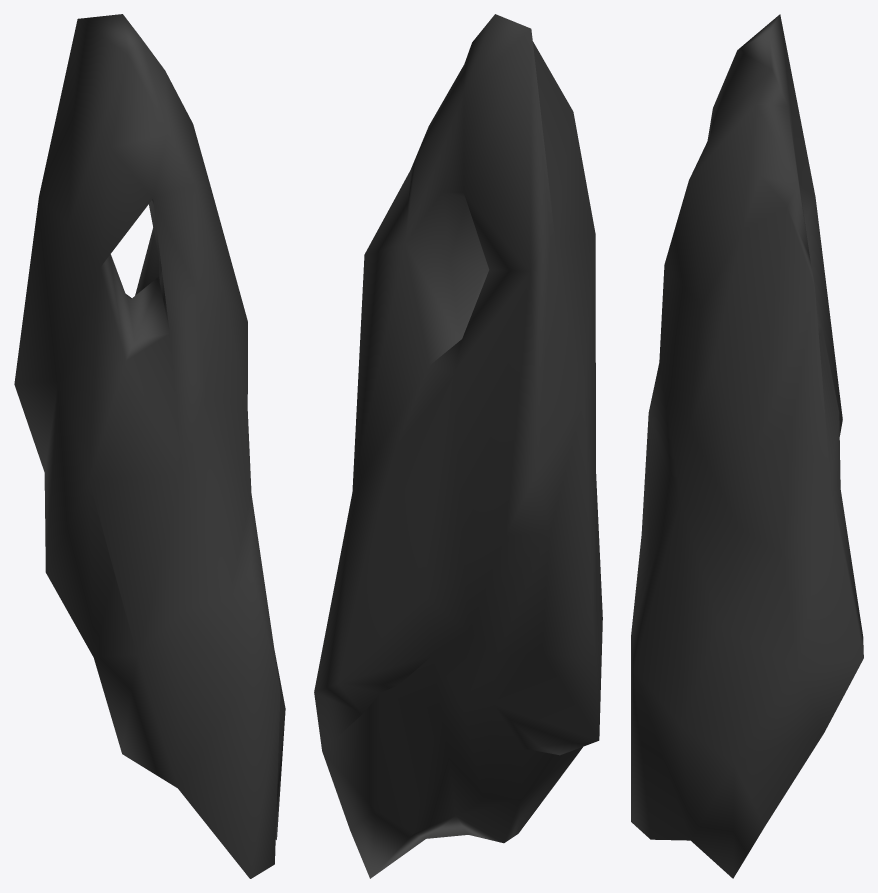
The model's file is spire-0.glb.
The picture shows the model from 3 angles, left to right: view 1: azimuth 30°, elevation 25°; view 2: azimuth 150°, elevation 25°; view 3: azimuth 270°, elevation 25°; orthographic projection. The views are drawn at different scales.
Parts seen in each view (by area): view 1: geometry_0; view 2: geometry_0; view 3: geometry_0.
Boxes of the visible parts, x1,y1,x2,y2 form: geometry_0: (14, 14, 285, 878); geometry_0: (314, 14, 602, 878); geometry_0: (631, 14, 863, 878).
Bounding box in the file's own units: 0.2814 × 1 × 0.2686.
Materials: 1 (1 with a texture image).
